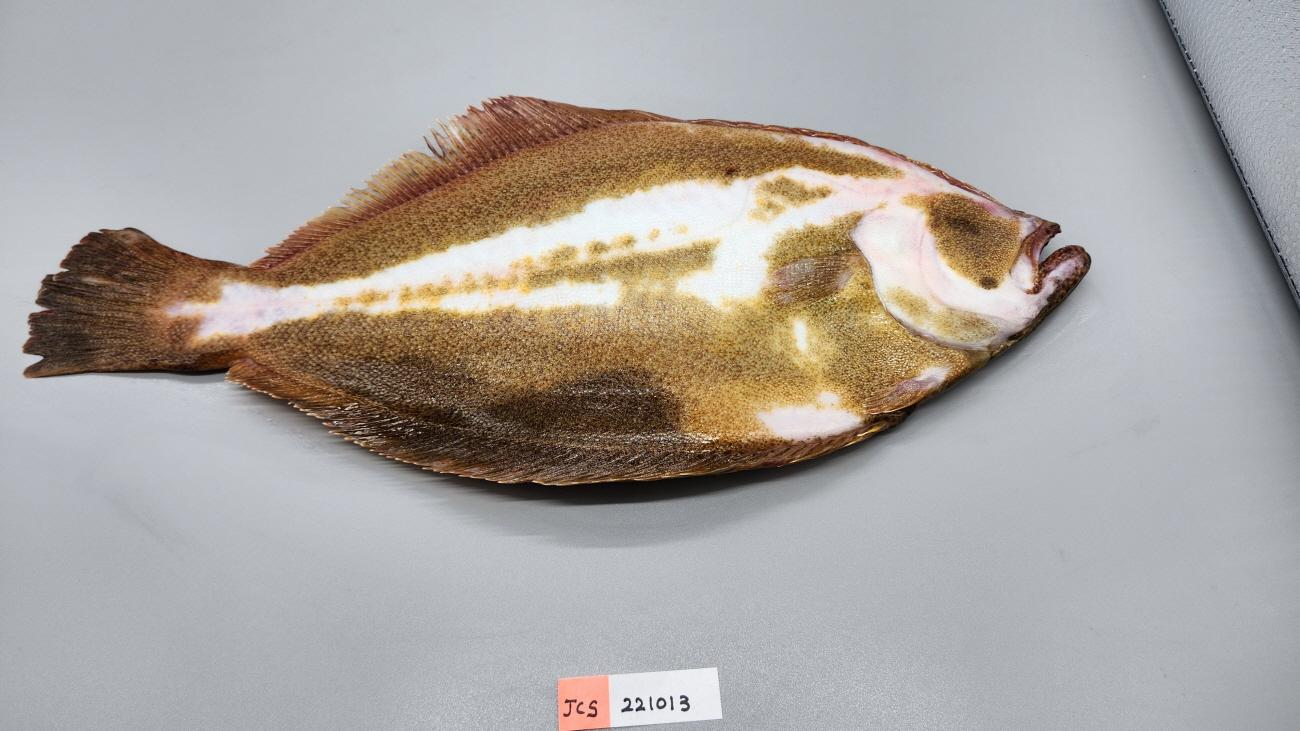VIFCH: (22, 227, 184, 378)
VIOUY: (19, 96, 1091, 492)
